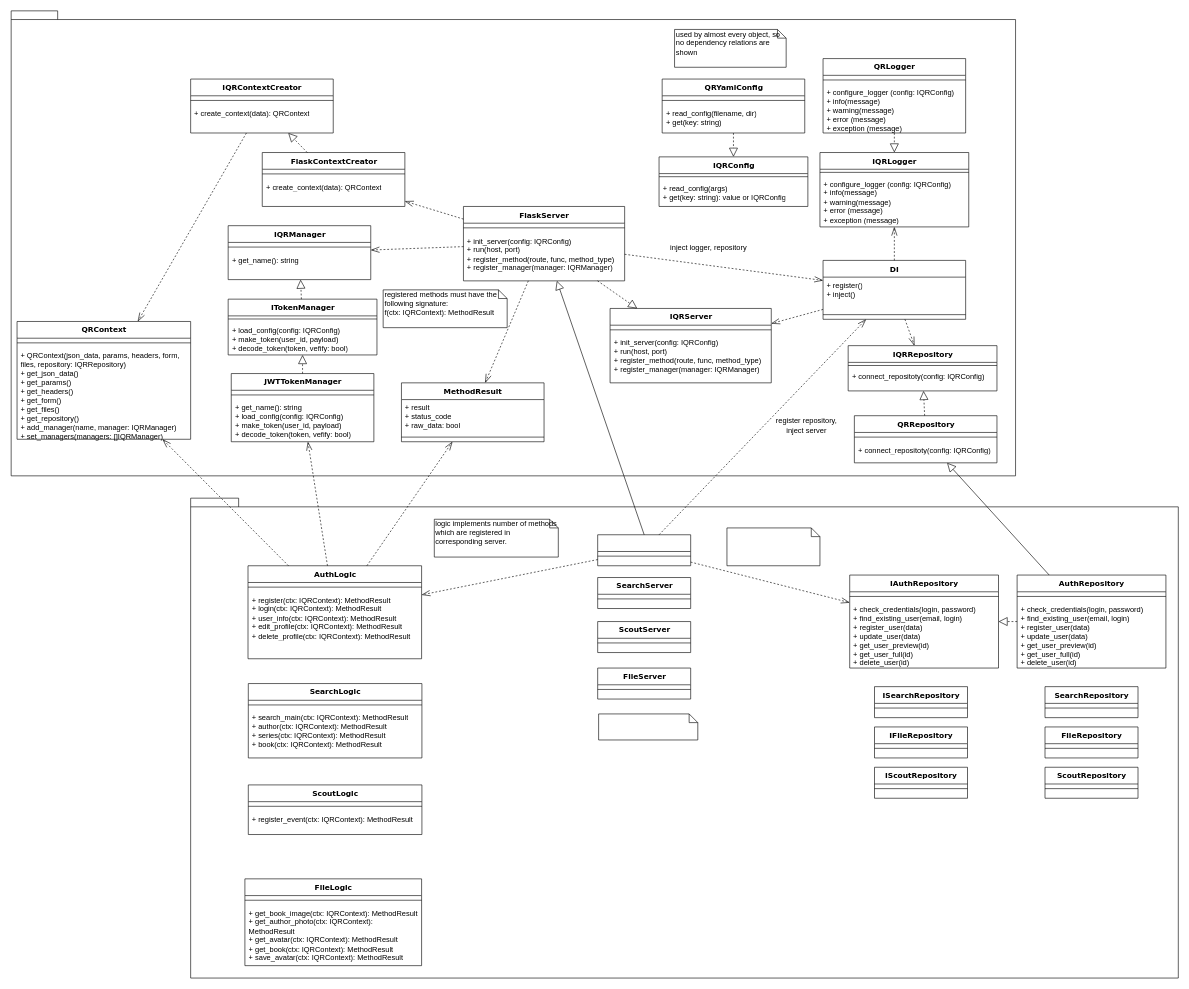
Some shapes in this 1189 by 989 pixel diagram are drawn without their labels. The centre of each missing label's shape, as x and y in pixels:
"AuthServer" belongs at point (644, 550).
"Dependencies are shown only for one server object" belongs at point (648, 726).
"repositories implement methods specific for each service" belongs at point (773, 546).
